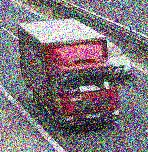truck: (18, 17, 117, 128)
